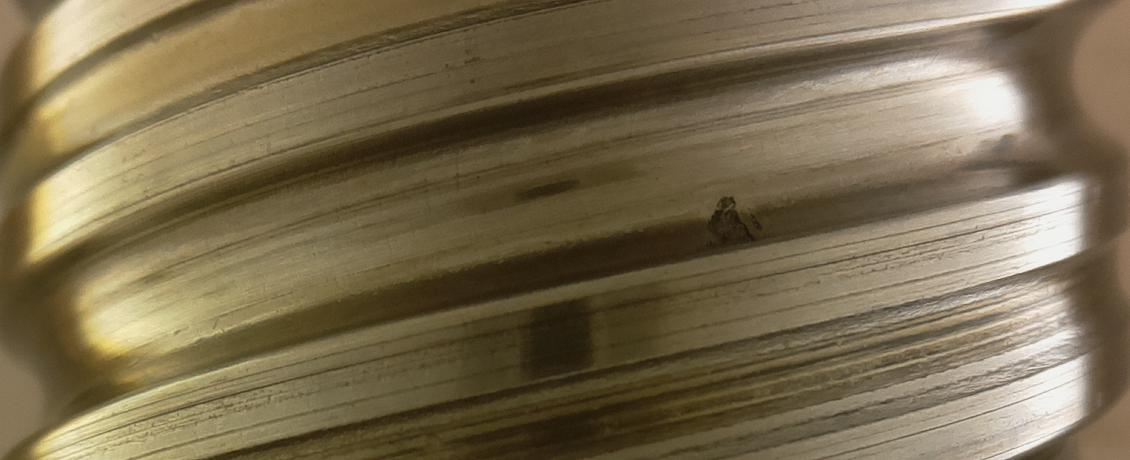pitting: (706, 194, 757, 249), (750, 214, 761, 231)
